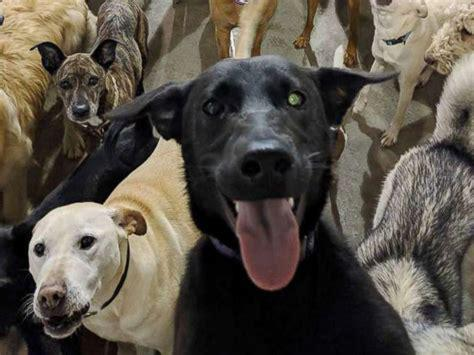dog: (104, 57, 415, 355), (28, 141, 198, 355), (33, 1, 150, 140)
